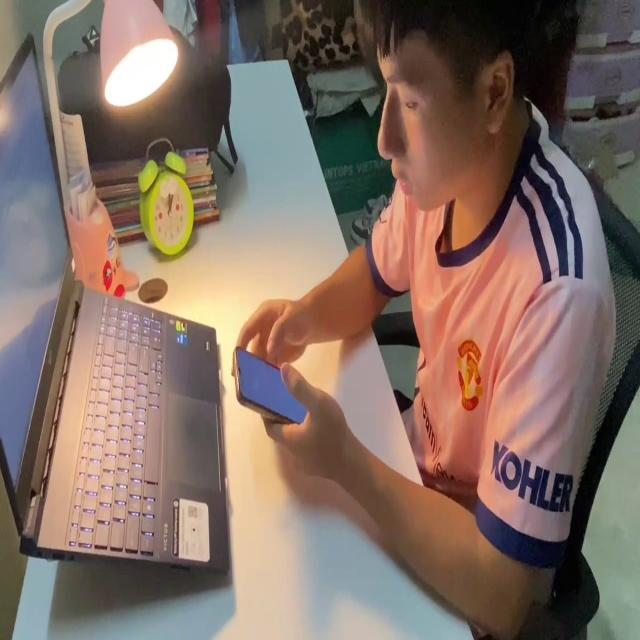laptop: (0, 28, 231, 578)
phone: (231, 341, 314, 428)
student: (236, 0, 620, 640)
